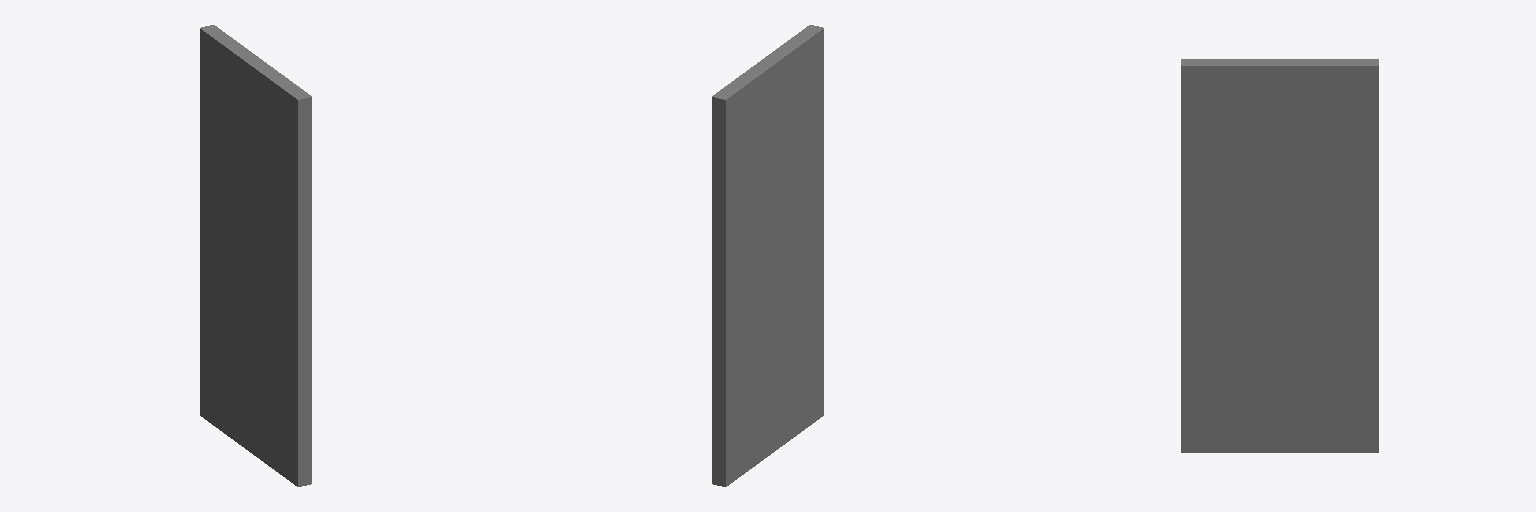
3 renders of one model, left to right at view 1: azimuth 30°, elevation 25°; view 2: azimuth 150°, elevation 25°; view 3: azimuth 270°, elevation 25°, orthographic.
Visible parts, largest first — view 1: object 1; view 2: object 1; view 3: object 1.
Part boxes in pixels (bbox=[...]): object 1: bbox=[200, 25, 311, 486]; object 1: bbox=[712, 25, 823, 486]; object 1: bbox=[1181, 59, 1378, 452].
Size of the model in its own units: 0.1 by 2.6 by 1.2.
1 materials, 1 textured.